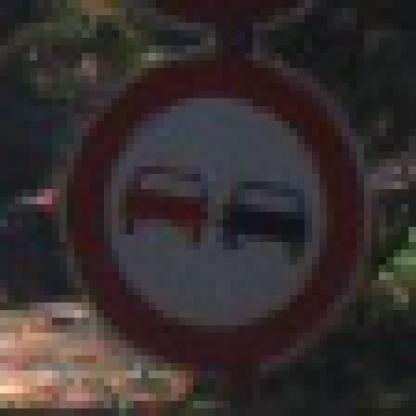No Overtaking: (46, 39, 373, 372)
